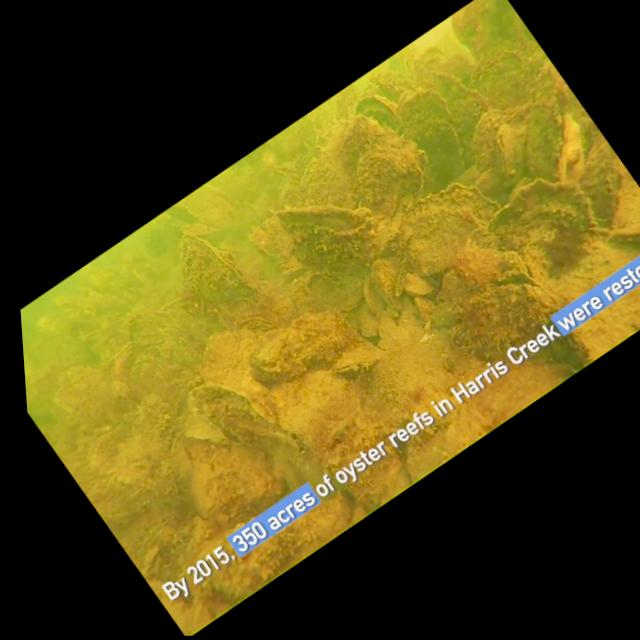Oyster-Closed: (178, 232, 255, 313), (496, 122, 527, 182)
Oyster-Indeterminate: (186, 483, 355, 604), (431, 245, 556, 359), (271, 368, 375, 463), (392, 181, 497, 275), (489, 177, 594, 262), (352, 135, 426, 214), (187, 384, 289, 441), (321, 115, 397, 175), (126, 352, 200, 407), (199, 327, 256, 390), (249, 326, 310, 384), (55, 364, 115, 422), (412, 117, 463, 183), (530, 58, 571, 130), (471, 107, 508, 170), (398, 86, 453, 127), (557, 111, 584, 180), (158, 323, 203, 363), (127, 310, 174, 348), (370, 255, 402, 307), (190, 458, 218, 517), (355, 93, 400, 128), (474, 167, 511, 204), (111, 340, 140, 380), (362, 274, 389, 315), (547, 338, 584, 367), (169, 437, 191, 484), (151, 461, 179, 497), (606, 219, 640, 243), (403, 271, 434, 294), (359, 302, 378, 337)
Oyster-Open: (275, 204, 393, 274), (452, 0, 538, 58), (332, 339, 381, 372), (141, 543, 169, 578), (232, 314, 278, 333), (388, 421, 418, 446)
